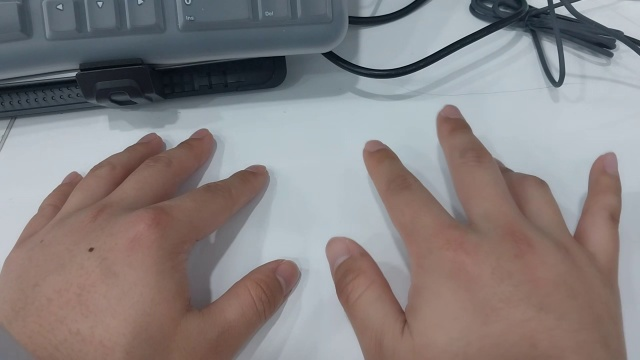fingers: (325, 235, 352, 276), (274, 258, 301, 296), (600, 151, 619, 175), (362, 138, 386, 154), (441, 103, 462, 120), (60, 170, 79, 187), (189, 127, 211, 141), (137, 131, 159, 144), (242, 163, 267, 174)
